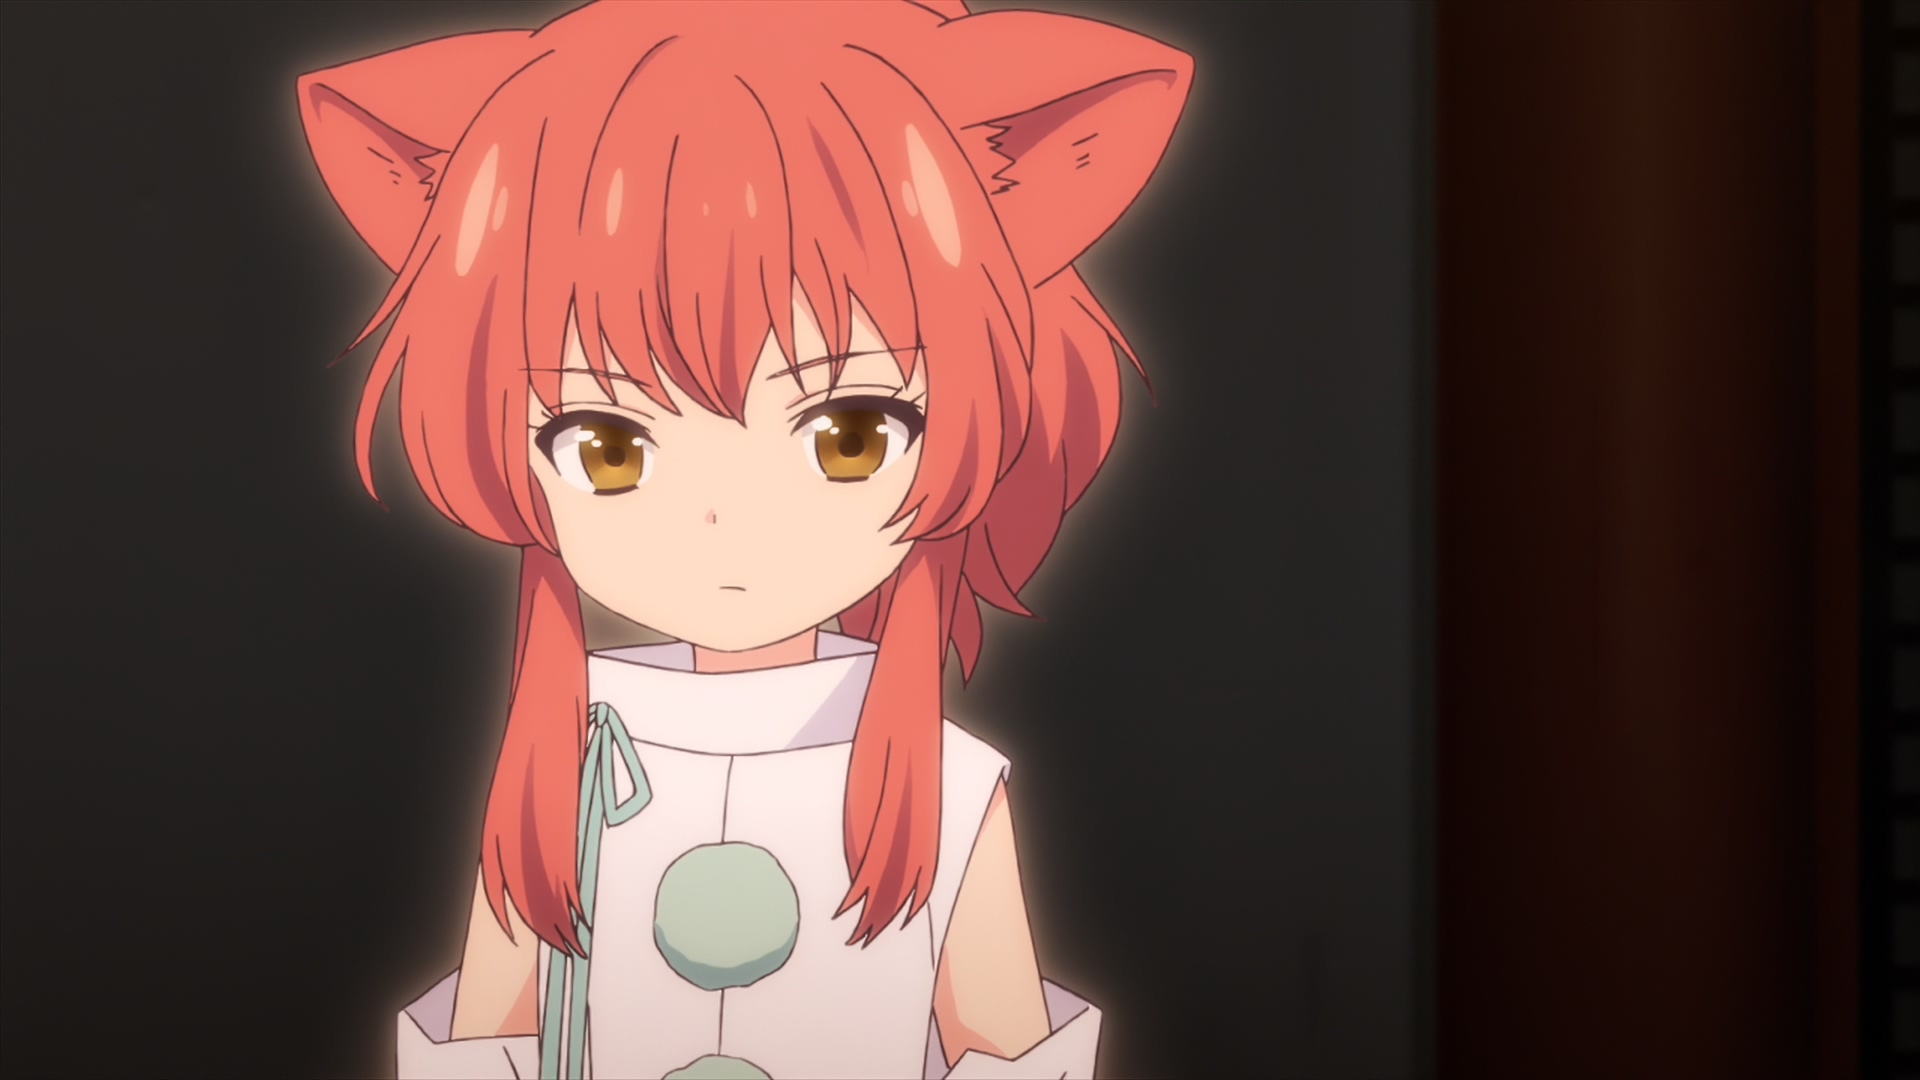椿: (294, 1, 1197, 1080)
